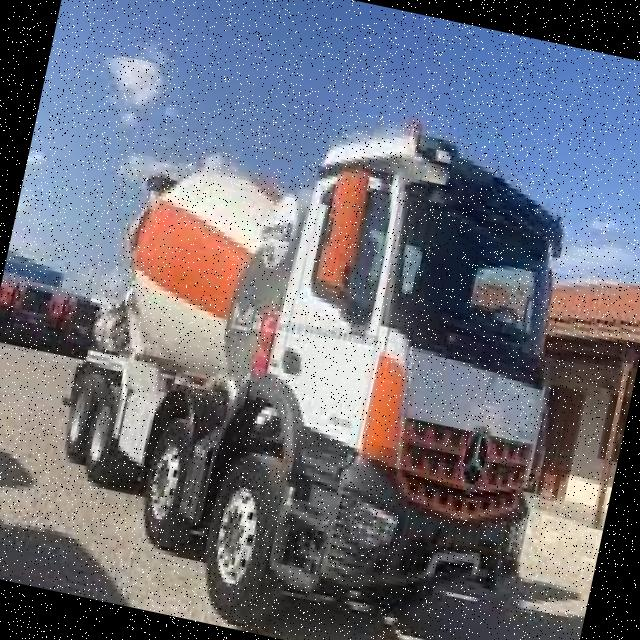Mixer Truck: (22, 55, 609, 640)
